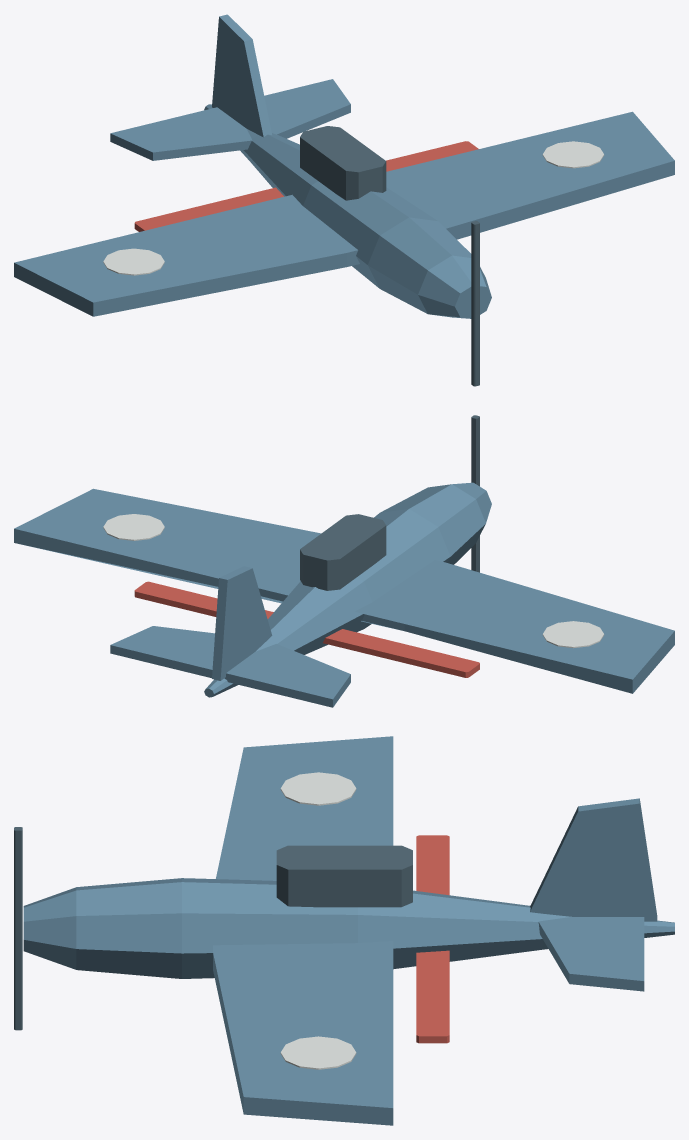
File: sbd.glb
The picture shows the model from 3 angles, top to bottom: view 1: azimuth 30°, elevation 25°; view 2: azimuth 150°, elevation 25°; view 3: azimuth 270°, elevation 25°; orthographic projection. The views are drawn at different scales.
Parts seen in each view (by area): view 1: sbd; view 2: sbd; view 3: sbd.
Part boxes in pixels (<box>): sbd: <box>14,14,674,386</box>; sbd: <box>14,415,674,707</box>; sbd: <box>14,736,674,1125</box>.
Size of the model in its own units: 10 by 2.85 by 7.51.
